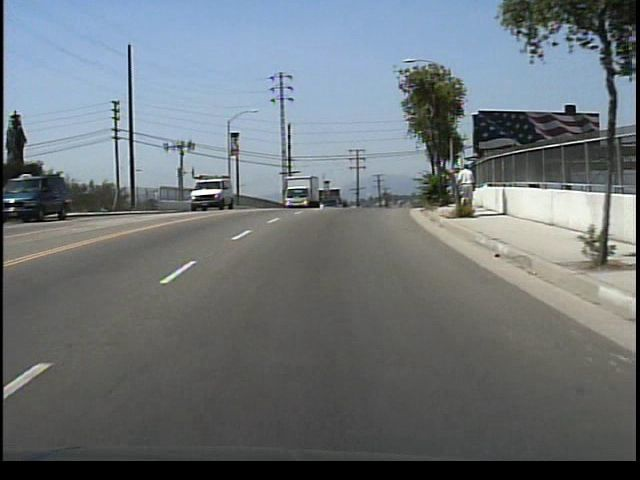person: (453, 162, 477, 217)
